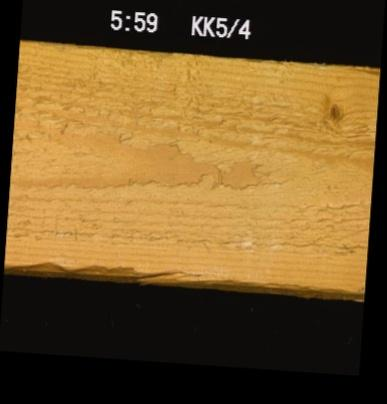small_knot: (325, 98, 346, 125)
split: (339, 64, 379, 75)
wave: (3, 261, 364, 287)
